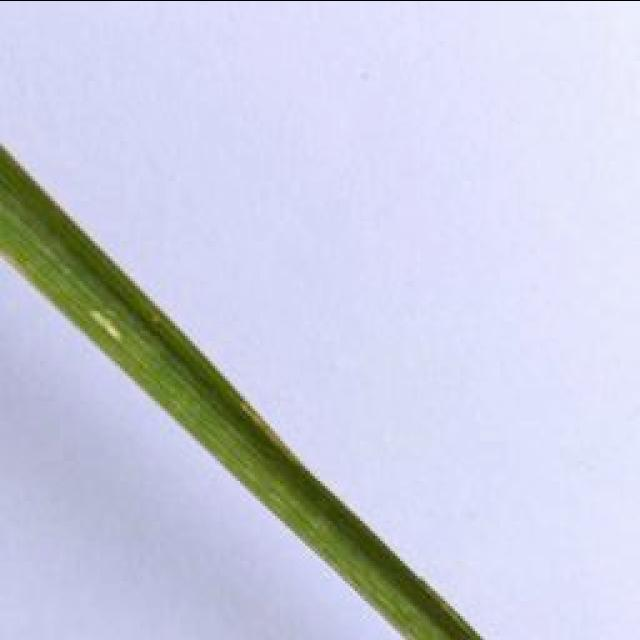Unhealthy: (90, 306, 122, 341)
